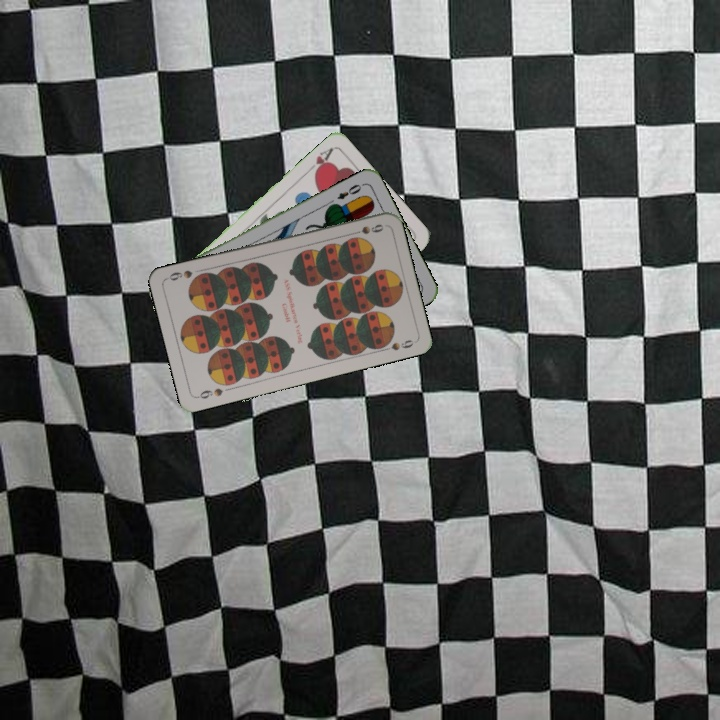EO: (333, 179, 366, 202)
HA: (303, 144, 336, 177)
S9: (346, 220, 386, 238), (193, 384, 226, 401)
